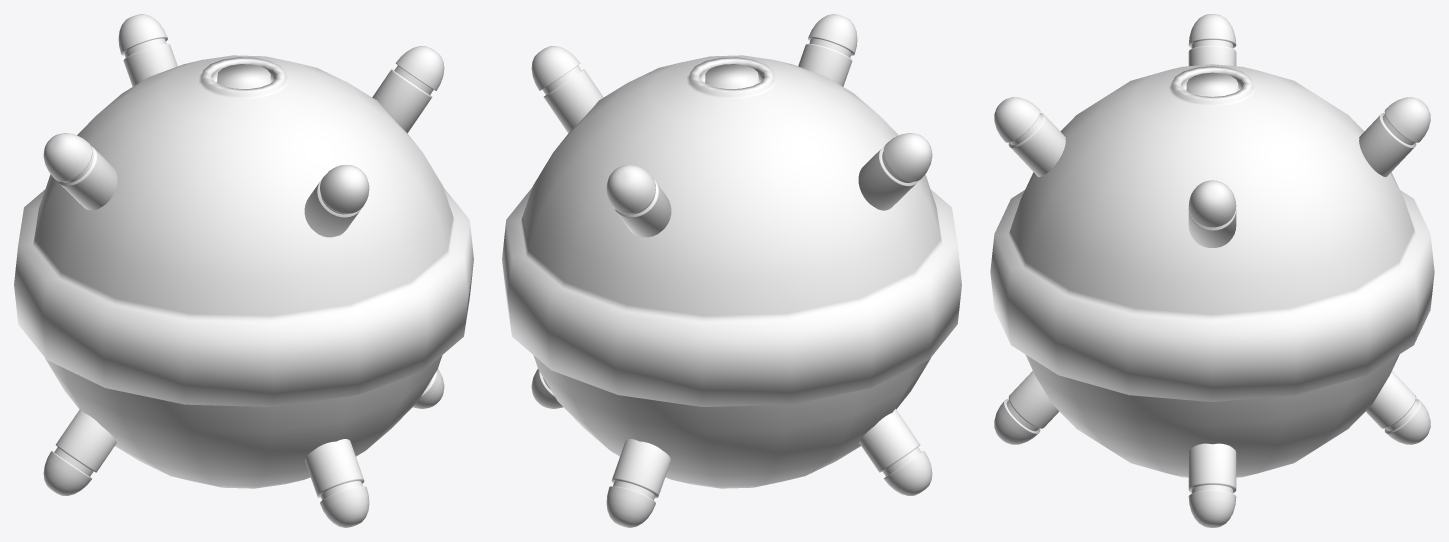
The model's file is landmine.fbx.
3 views of the same model, side by side, from view 1: azimuth 30°, elevation 25°; view 2: azimuth 150°, elevation 25°; view 3: azimuth 270°, elevation 25° (orthographic). The views are drawn at different scales.
Visible parts, largest first — view 1: landmine; view 2: landmine; view 3: landmine.
Part boxes in pixels (x1=…): landmine: x1=14, y1=14, x2=473, y2=527; landmine: x1=502, y1=14, x2=961, y2=527; landmine: x1=990, y1=14, x2=1434, y2=527.
Bounding box in the file's own units: 2.14 × 1.98 × 2.14.
